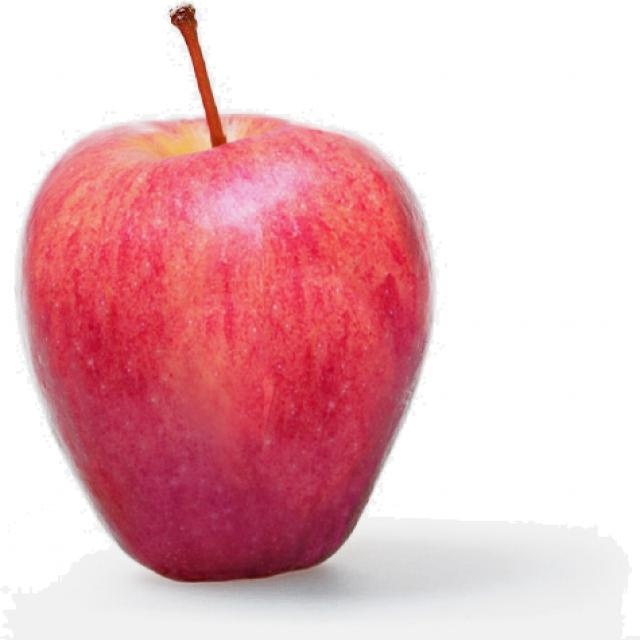Apple: (22, 8, 436, 590)
